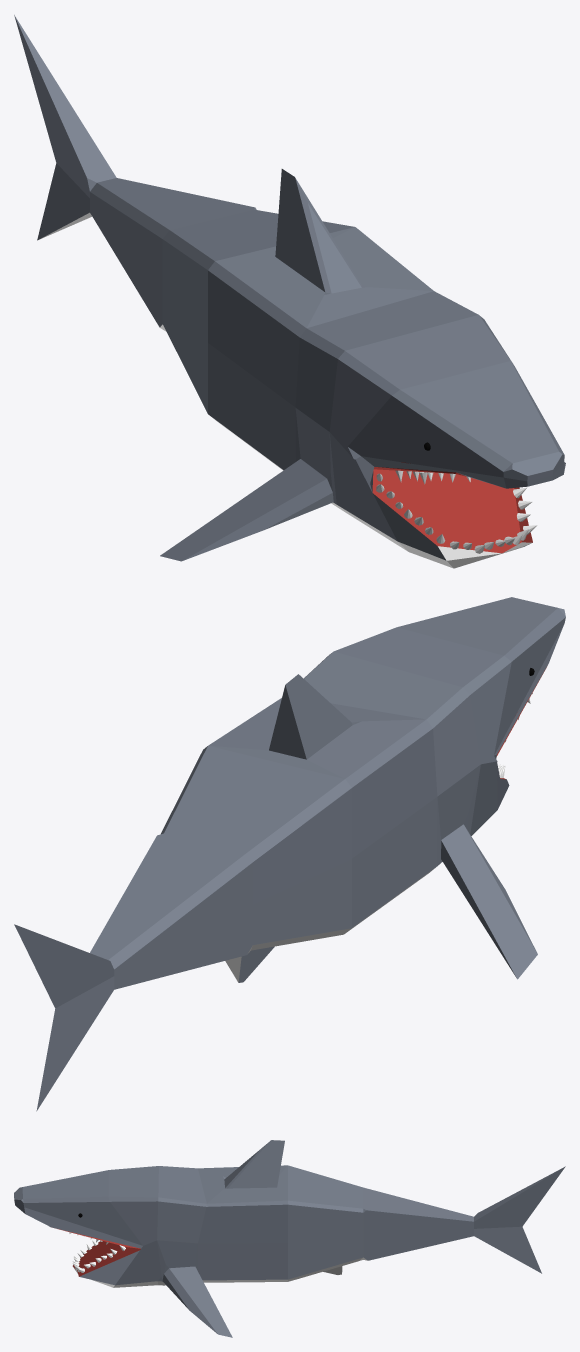
File: Shark.glb
The picture shows the model from 3 angles, top to bottom: view 1: azimuth 30°, elevation 25°; view 2: azimuth 150°, elevation 25°; view 3: azimuth 270°, elevation 25°; orthographic projection. The views are drawn at different scales.
Visible parts, largest first — view 1: BODY; view 2: BODY; view 3: BODY.
Boxes of the visible parts, <box> form: BODY: <box>14,15,565,568</box>; BODY: <box>14,597,565,1111</box>; BODY: <box>14,1140,565,1337</box>.
Size of what is drawn, in the model's own units: 1.3 by 0.9782 by 3.15.
